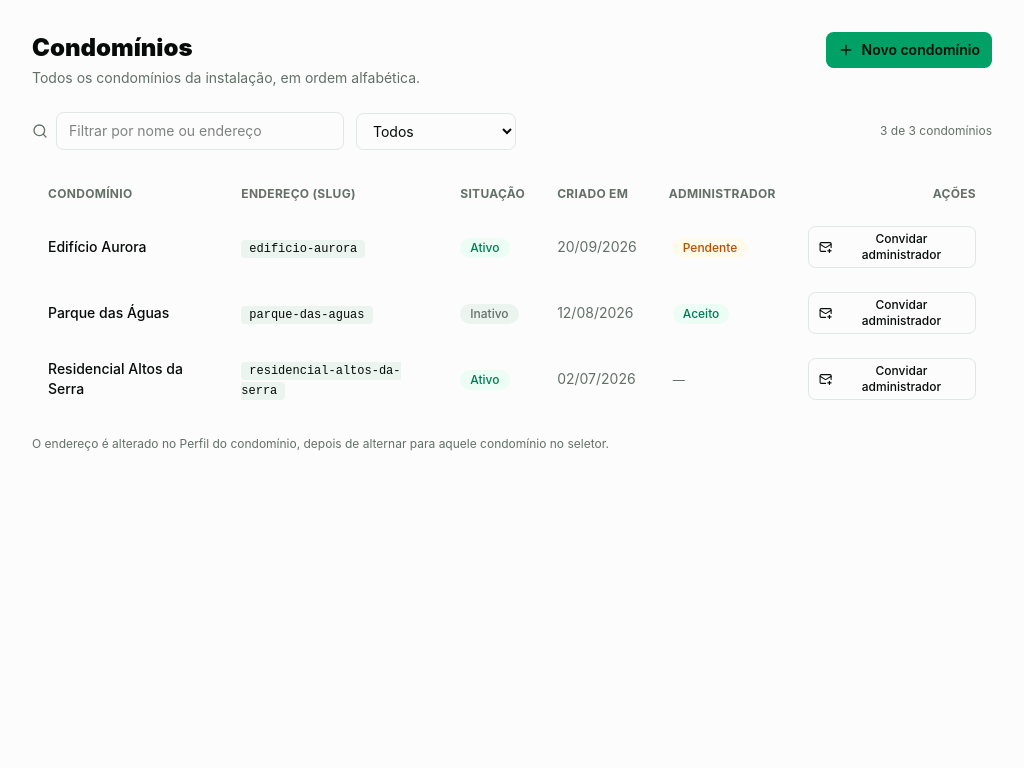
Test: TenantsAdminPage — the per-tenant invitation panel › labels the action as resending while the re-issue is in flight
Click the button "Pendente": (710, 247) [669,234,751,260]
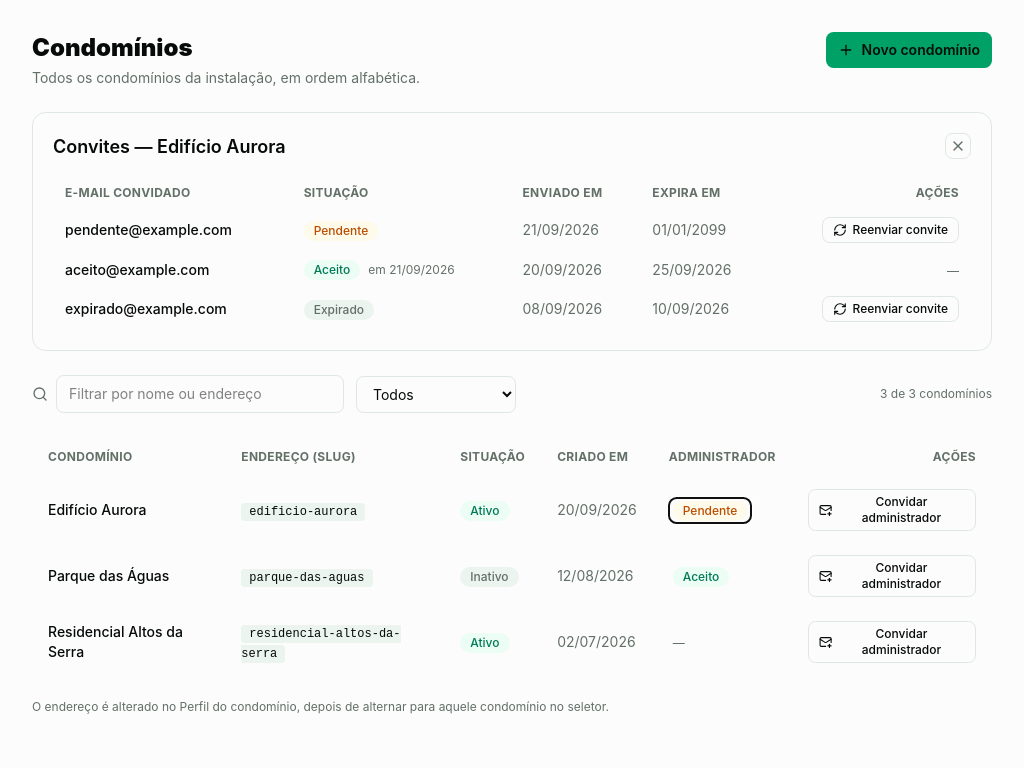
Click the button "Reenviar convite" in the row of "pendente@example.com": (890, 230) [822,217,959,243]
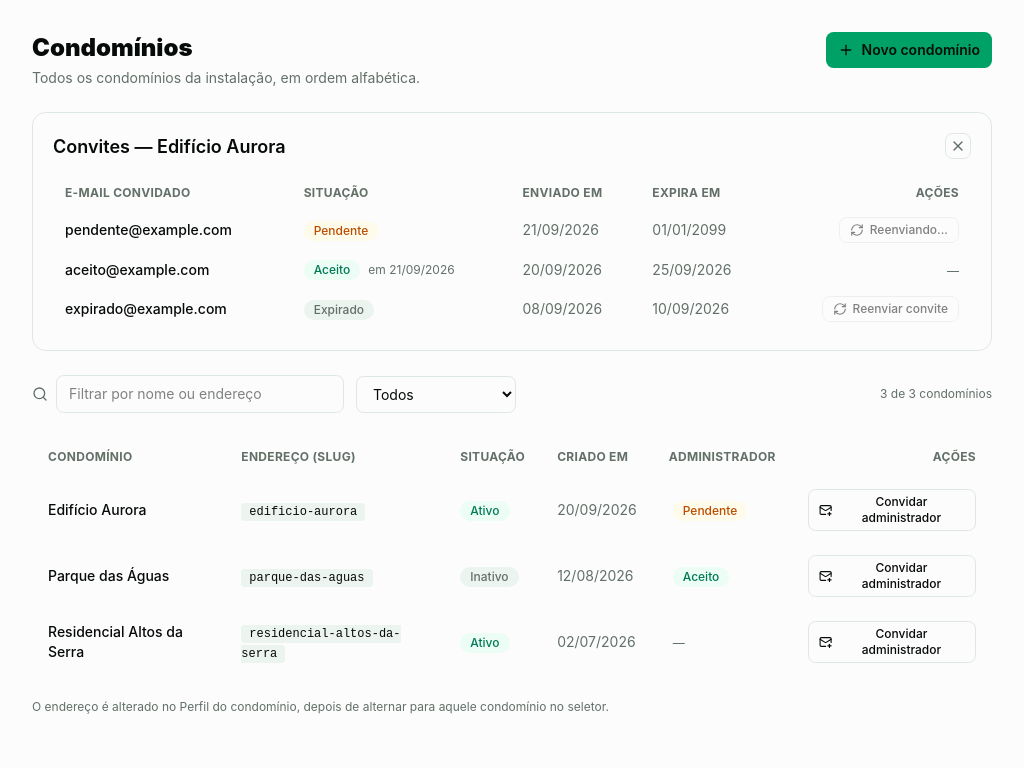
Expected: the button "Reenviando..." is disabled, [839,217,959,243]
